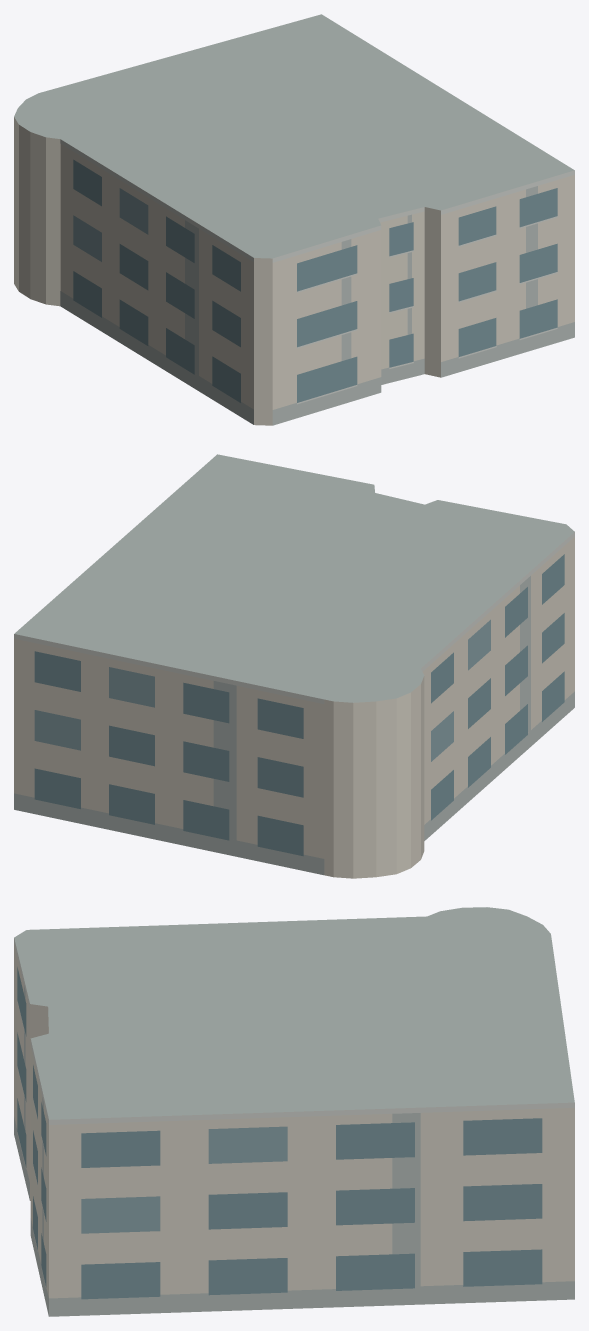
Rendered from survey-upis-32967610.glb.
The picture shows the model from 3 angles, top to bottom: view 1: azimuth 30°, elevation 25°; view 2: azimuth 150°, elevation 25°; view 3: azimuth 270°, elevation 25°; orthographic projection. The views are drawn at different scales.
Visible parts, largest first — view 1: survey-upis-32967610.tmp; view 2: survey-upis-32967610.tmp; view 3: survey-upis-32967610.tmp.
Part boxes in pixels (bbox=[...]): survey-upis-32967610.tmp: bbox=[14, 14, 574, 425]; survey-upis-32967610.tmp: bbox=[14, 454, 574, 878]; survey-upis-32967610.tmp: bbox=[14, 907, 574, 1316].
Bounding box in the file's own units: 21.2 × 9.15 × 23.63.
